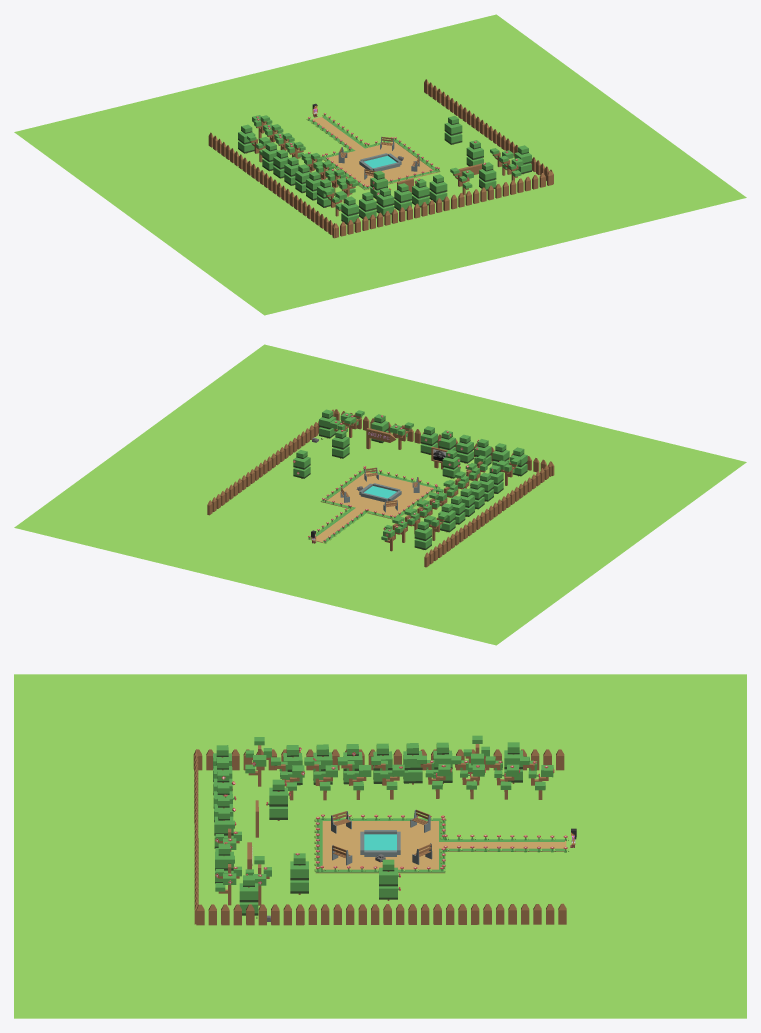
The model's file is Portfolioo.glb.
3 renders of one model, top to bottom at view 1: azimuth 30°, elevation 25°; view 2: azimuth 150°, elevation 25°; view 3: azimuth 270°, elevation 25°, orthographic. The views are drawn at different scales.
Parts seen in each view (by area): view 1: ground; view 2: ground; view 3: ground.
Boxes of the visible parts, bbox=[...] form: ground: bbox=[14, 14, 746, 315]; ground: bbox=[14, 344, 746, 645]; ground: bbox=[14, 674, 746, 1018].
Size of what is drawn, in the model's own units: 93.16 by 5.36 by 83.77.
21 materials, 1 textured.
